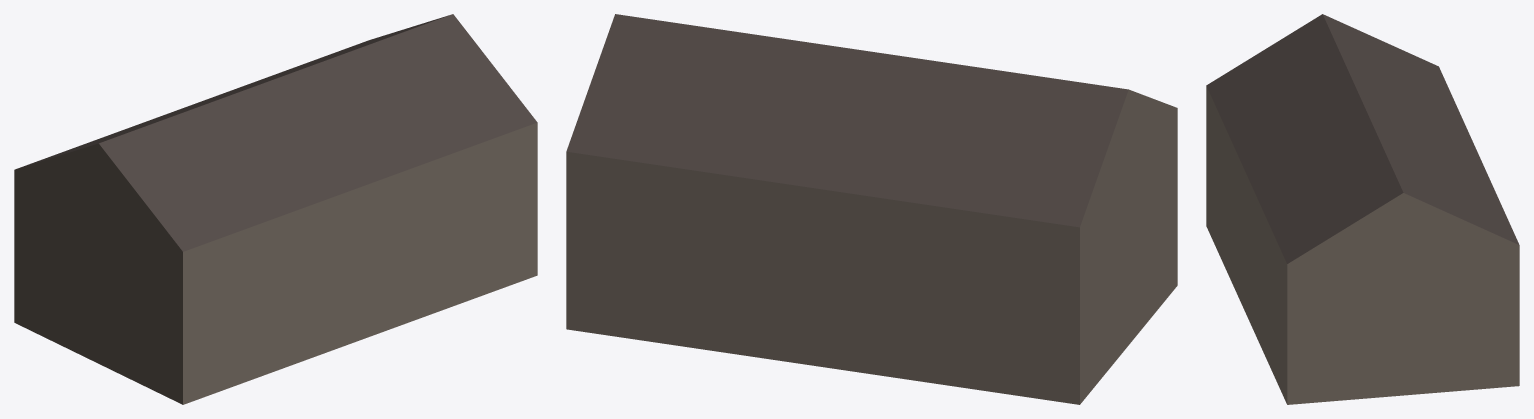
The picture shows the model from 3 angles, left to right: view 1: azimuth 30°, elevation 25°; view 2: azimuth 150°, elevation 25°; view 3: azimuth 270°, elevation 25°; orthographic projection. The views are drawn at different scales.
Visible parts, largest first — view 1: HP-w530199017; view 2: HP-w530199017; view 3: HP-w530199017.
Boxes of the visible parts, bbox=[...] form: HP-w530199017: bbox=[14, 14, 537, 404]; HP-w530199017: bbox=[566, 14, 1177, 404]; HP-w530199017: bbox=[1206, 14, 1519, 404].
Bounding box in the file's own units: 27.13 × 12.96 × 18.16.
